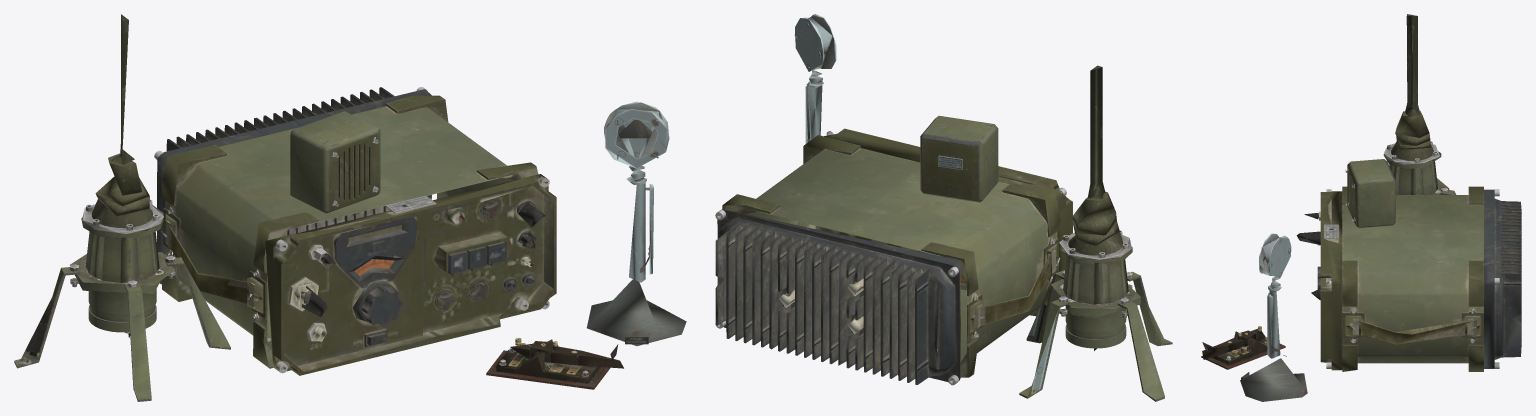
The model's file is radio.glb.
3 renders of one model, left to right at view 1: azimuth 30°, elevation 25°; view 2: azimuth 150°, elevation 25°; view 3: azimuth 270°, elevation 25°, orthographic. The views are drawn at different scales.
Visible parts, largest first — view 1: vintage_radio_transceiver, vintage_radio_transceiver_cable; view 2: vintage_radio_transceiver, vintage_radio_transceiver_cable; view 3: vintage_radio_transceiver, vintage_radio_transceiver_cable.
Boxes of the visible parts, x1,y1,x2,y2 form: vintage_radio_transceiver: (154, 87, 556, 375); vintage_radio_transceiver_cable: (14, 14, 686, 401); vintage_radio_transceiver: (715, 128, 1072, 385); vintage_radio_transceiver_cable: (794, 14, 1172, 401); vintage_radio_transceiver: (1317, 186, 1521, 371); vintage_radio_transceiver_cable: (1201, 14, 1456, 401).
Size of the model in its own units: 0.5612 by 0.3317 by 0.4102.
Materials: 2 (2 with a texture image).
